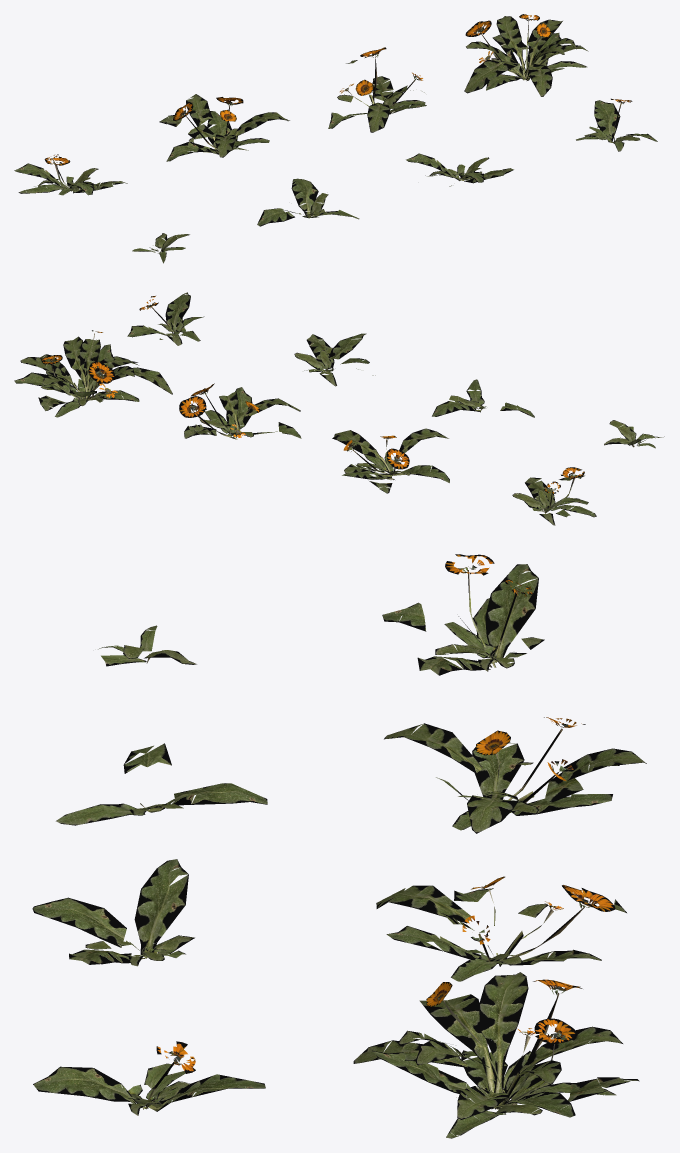
File: ph_flower_gazania.glb
3 renders of one model, top to bottom at view 1: azimuth 30°, elevation 25°; view 2: azimuth 150°, elevation 25°; view 3: azimuth 270°, elevation 25°, orthographic. The views are drawn at different scales.
Parts seen in each view (by area): view 1: Hero; view 2: Hero; view 3: Hero.
Boxes of the visible parts, box(x1,y1,x2,y2) form: Hero: box(14, 14, 657, 263); Hero: box(14, 292, 664, 525); Hero: box(32, 554, 646, 1138).
Bounding box in the file's own units: 1.05 × 0.1163 × 0.4978.
1 material, 1 textured.
